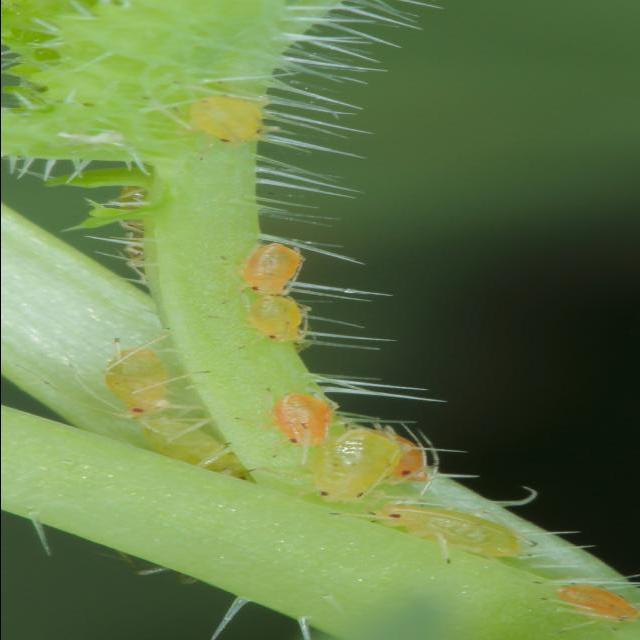aphid: (336, 500, 538, 570), (274, 423, 441, 501), (72, 342, 204, 420), (134, 419, 263, 492), (164, 85, 284, 159), (203, 232, 328, 295), (230, 291, 344, 354), (520, 576, 640, 634), (266, 387, 340, 453)
